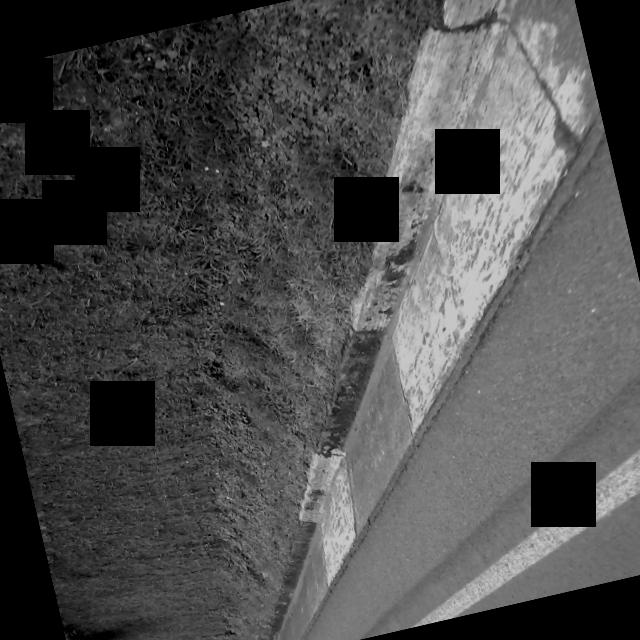DITCH: (118, 0, 640, 640), (129, 0, 640, 640)
